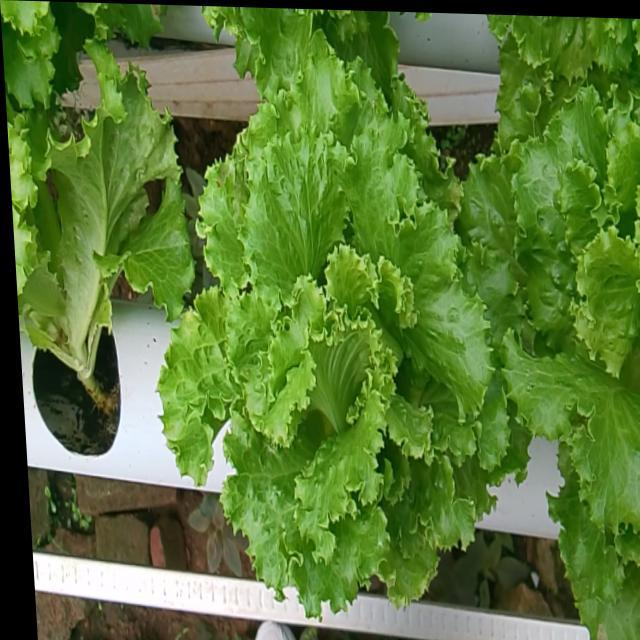Mature: (164, 69, 516, 631), (466, 98, 640, 555)
